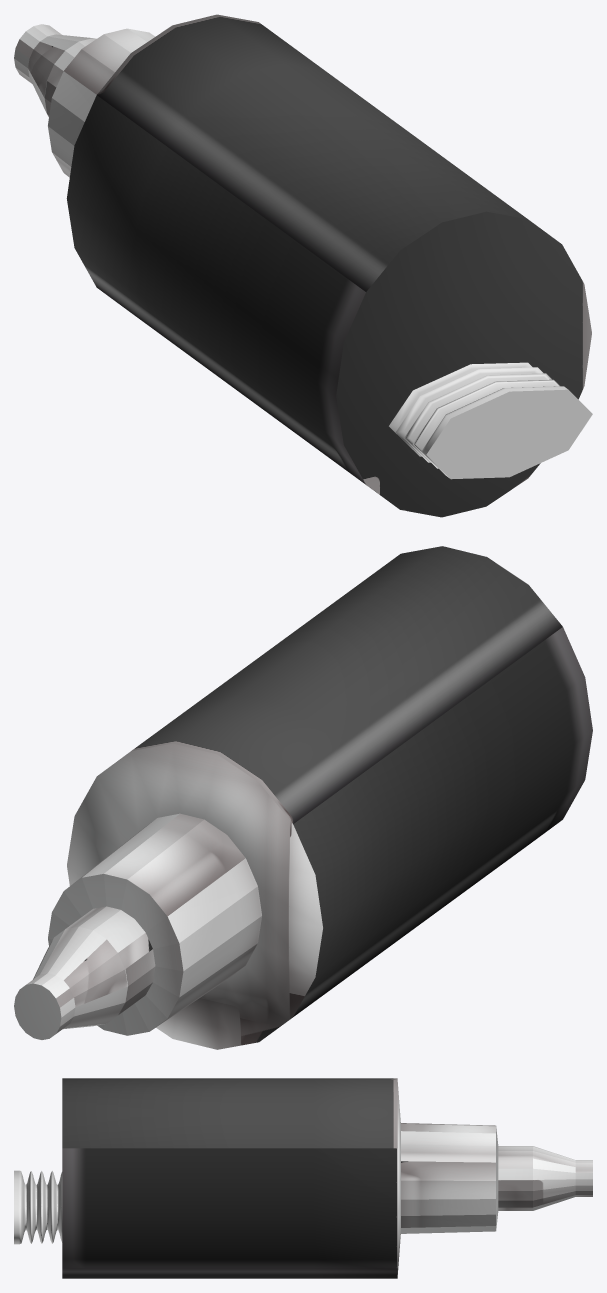
Rendered from MiniStereoPlug.FBX.
3 renders of one model, top to bottom at view 1: azimuth 30°, elevation 25°; view 2: azimuth 150°, elevation 25°; view 3: azimuth 270°, elevation 25°, orthographic. The views are drawn at different scales.
Parts seen in each view (by area): view 1: Cylinder012, Hose004; view 2: Cylinder012; view 3: Cylinder012, Hose004.
Boxes of the visible parts, x1,y1,x2,y2 form: Cylinder012: (14,14,591,517); Hose004: (389,362,592,479); Cylinder012: (14,546,592,1049); Cylinder012: (62,1078,592,1278); Hose004: (14,1170,62,1244).
Bounding box in the file's own units: 7.65 × 8.43 × 24.09.
